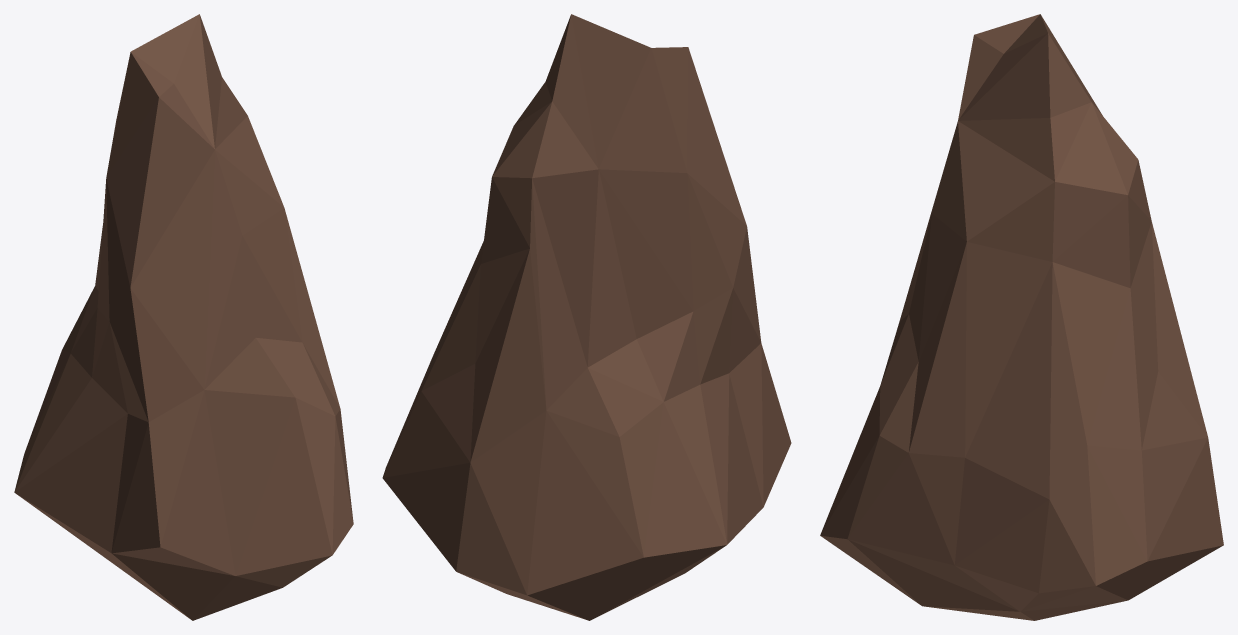
Rendered from large_rock1.glb.
The picture shows the model from 3 angles, left to right: view 1: azimuth 30°, elevation 25°; view 2: azimuth 150°, elevation 25°; view 3: azimuth 270°, elevation 25°; orthographic projection. The views are drawn at different scales.
Visible parts, largest first — view 1: large_rock1; view 2: large_rock1; view 3: large_rock1.
Boxes of the visible parts, bbox=[...] form: large_rock1: bbox=[14, 14, 353, 620]; large_rock1: bbox=[382, 14, 791, 620]; large_rock1: bbox=[820, 14, 1223, 620].
Size of the model in its own units: 4.19 by 6.94 by 4.36.
